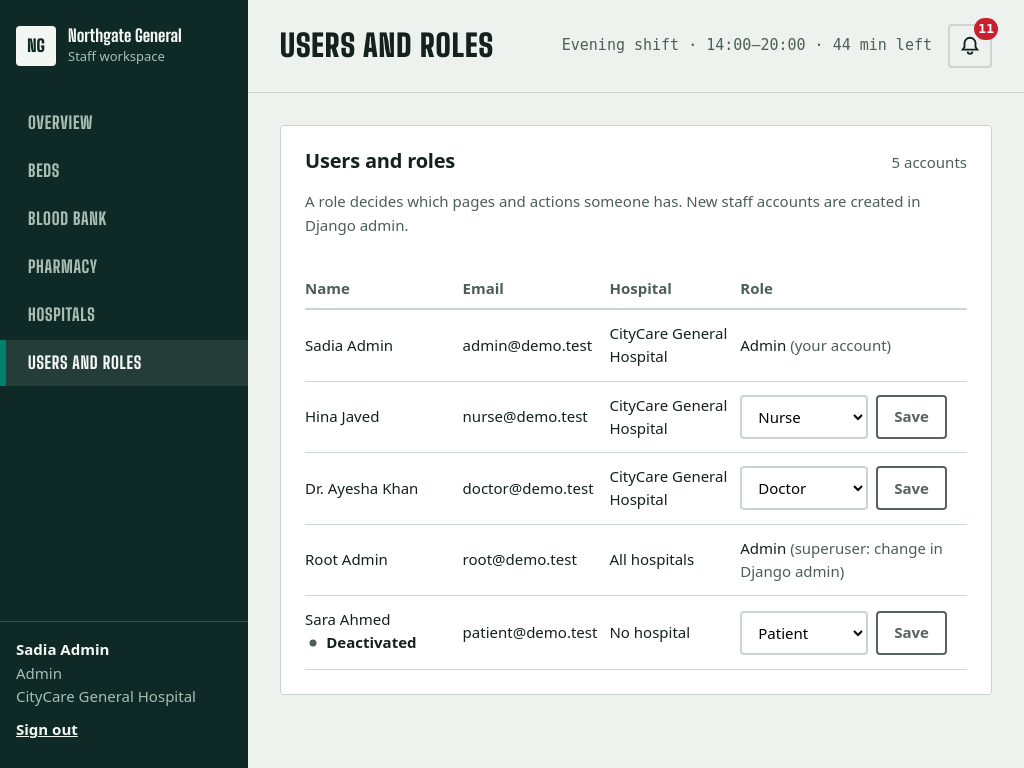
UsersPage (story 1.2 Role management) › reports a refused change and puts the old role back
Select "Admin" in the dropdown in the row of "Hina Javed". click: (804, 417)
box: [740,395,868,439]
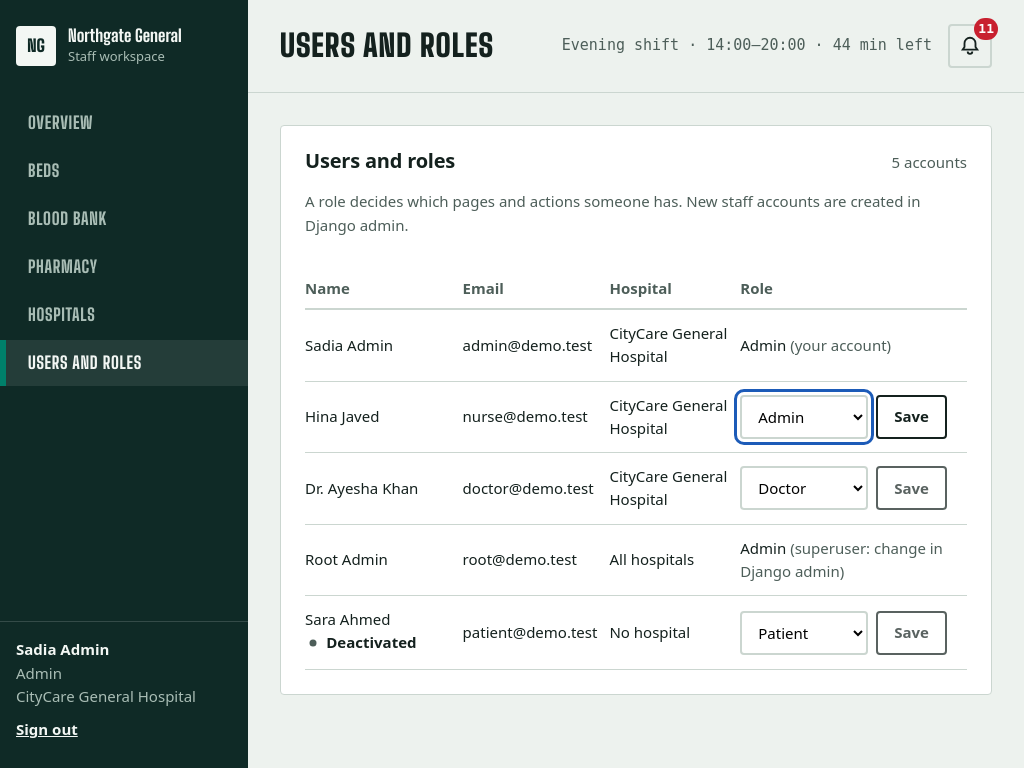
Click the button "Save" in the row of "Hina Javed". click: click(912, 417)
box: [876,395,947,439]
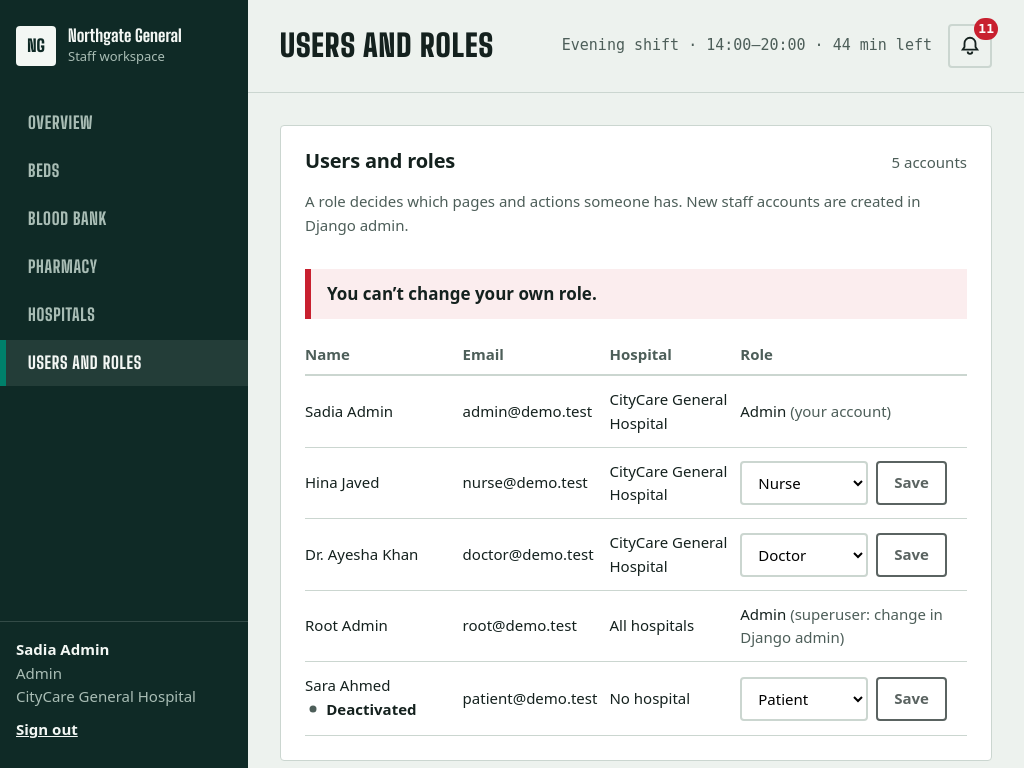
Now the message reads "You can’t change your own role.", box [327,282,597,305]
